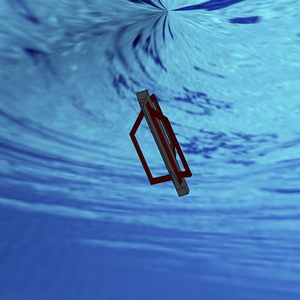submarine: (97, 87, 209, 201)
